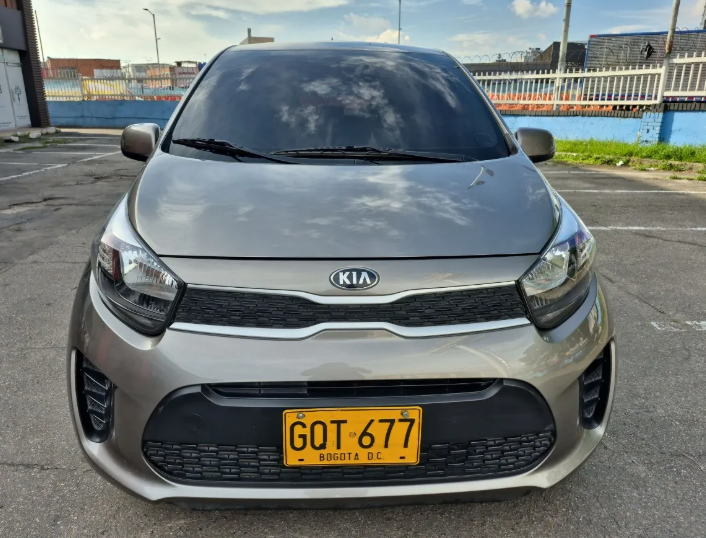placa: (281, 410, 425, 464)
